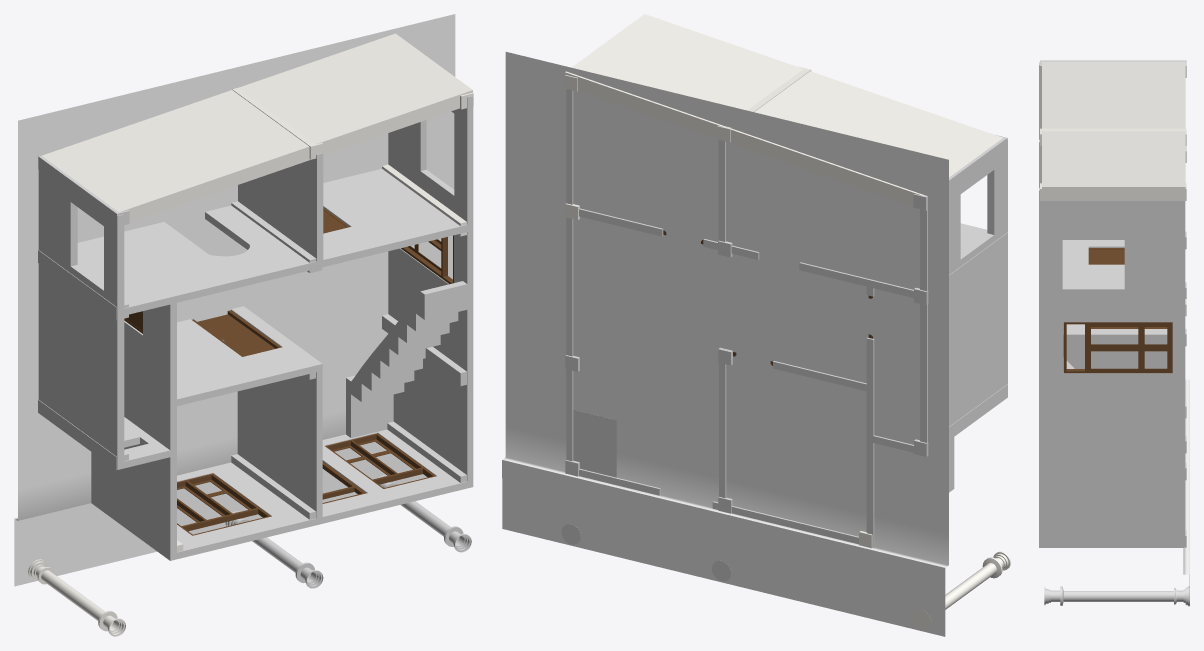
The picture shows the model from 3 angles, left to right: view 1: azimuth 30°, elevation 25°; view 2: azimuth 150°, elevation 25°; view 3: azimuth 270°, elevation 25°; orthographic projection. The views are drawn at different scales.
Visible parts, largest first — view 1: polySurface3, pPlane1, pCube46, pCube28, pCylinder4, pCube58, pCube106, pCube1, polySurface6, pCylinder1, polySurface7, pCylinder5 (+16 smaller); view 2: pPlane1, pCube46, polySurface3, pCube28, pCylinder4, pCube1, pCube9, pCube4; view 3: polySurface3, pCube46, pCylinder5, polySurface8, pPlane1, pCube87, pCube88, pCube2, pCube103, pCube3, pCube1.
Boxes of the visible parts, x1,y1,x2,y2 form: polySurface3: (38, 96, 473, 560); pPlane1: (14, 14, 455, 586); pCube46: (42, 33, 472, 221); pCube28: (346, 375, 393, 438); pCylinder4: (28, 559, 125, 636); pCube58: (408, 281, 467, 319); pCube106: (197, 314, 275, 356); pCube1: (38, 156, 129, 226); polySurface6: (177, 473, 271, 535); pCylinder1: (225, 511, 323, 588); polySurface7: (325, 433, 435, 488); pCylinder5: (379, 475, 471, 552); pPlane1: (502, 52, 948, 636); pCube46: (565, 14, 1002, 210); polySurface3: (566, 89, 1007, 547); pCube28: (573, 409, 616, 477); pCylinder4: (912, 551, 1010, 630); pCube1: (913, 135, 1007, 210); pCube9: (914, 384, 1007, 456); pCube4: (914, 232, 1007, 305); polySurface3: (1039, 62, 1185, 547); pCube46: (1042, 62, 1185, 199); pCylinder5: (1044, 586, 1189, 606); polySurface8: (1063, 322, 1172, 373); pPlane1: (1183, 379, 1189, 597); pCube87: (1087, 348, 1170, 371); pCube88: (1087, 324, 1170, 347); pCube2: (1040, 128, 1186, 145); pCube103: (1090, 249, 1124, 264); pCube3: (1040, 183, 1186, 200); pCube1: (1040, 60, 1186, 77).
Size of the model in its own units: 0.1235 by 0.1264 by 0.0404.
